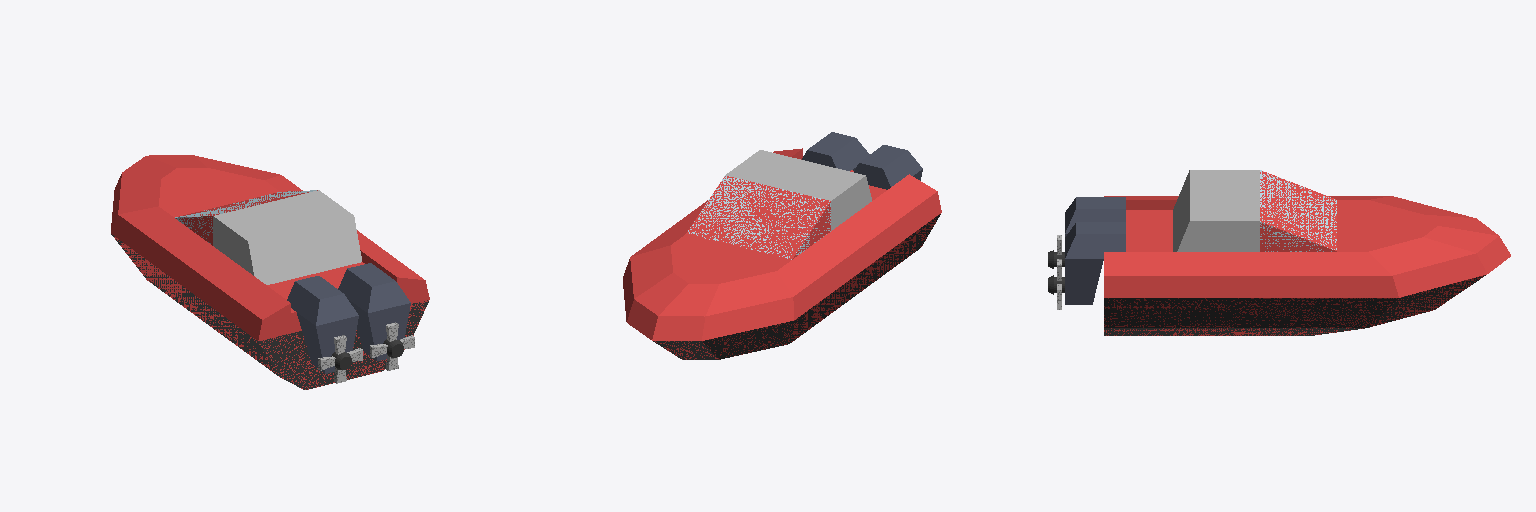
File: boat_020.obj
The picture shows the model from 3 angles: view 1: azimuth 30°, elevation 25°; view 2: azimuth 150°, elevation 25°; view 3: azimuth 270°, elevation 25°; orthographic projection.
Parts seen in each view (by area): view 1: Group; view 2: Group; view 3: Group.
Part boxes in pixels (left/top/right/bottom): Group: left=111, top=155, right=429, bottom=389; Group: left=623, top=132, right=941, bottom=359; Group: left=1048, top=170, right=1510, bottom=335.
Bounding box in the file's own units: 1.78 × 1.2 × 4.17.